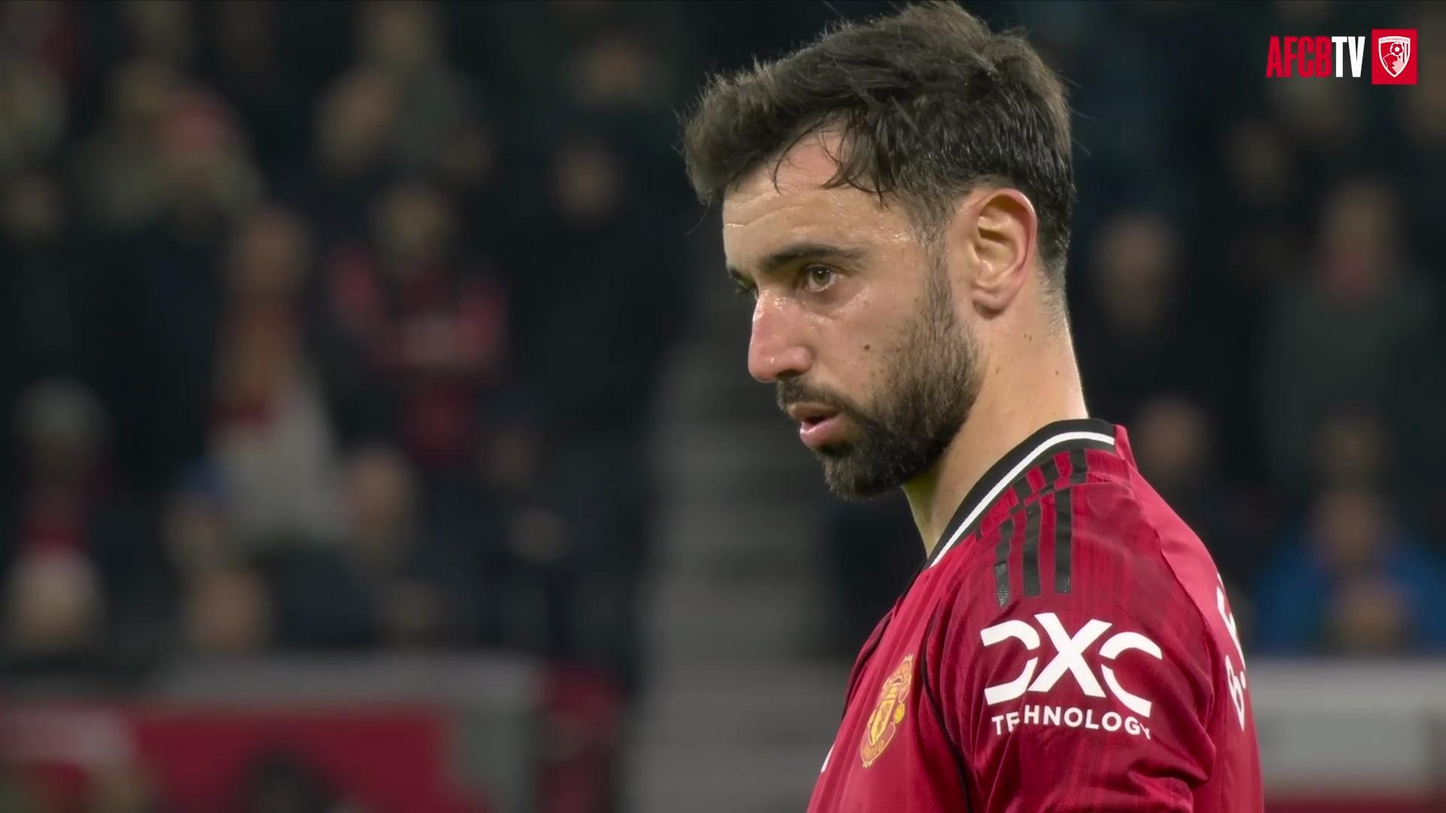player: (685, 4, 1262, 812)
